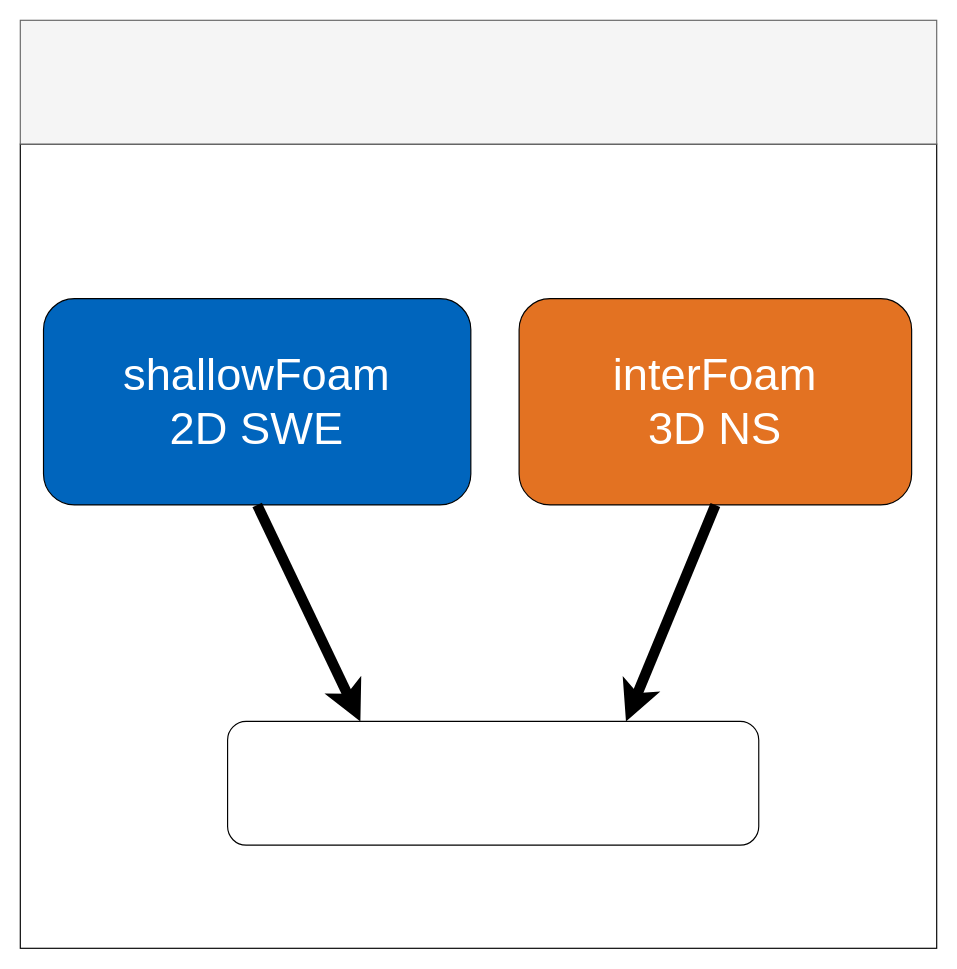
This 957x969 diagram has some shape labels left out. The shapes that lost their labels are listed below. From the top down, each one's box as (x1, y1, x2, y2) in pixels, then its label:
(19, 19, 937, 144): OpenFOAM
(226, 720, 759, 845): shallowInterFoam
